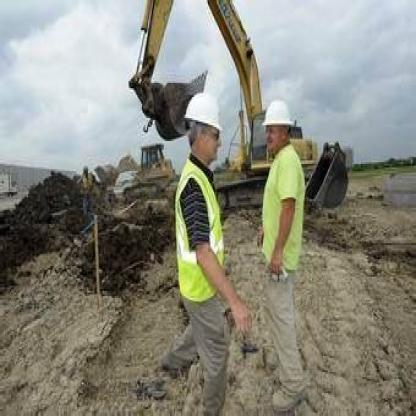person: (150, 90, 251, 414), (252, 86, 327, 408)
